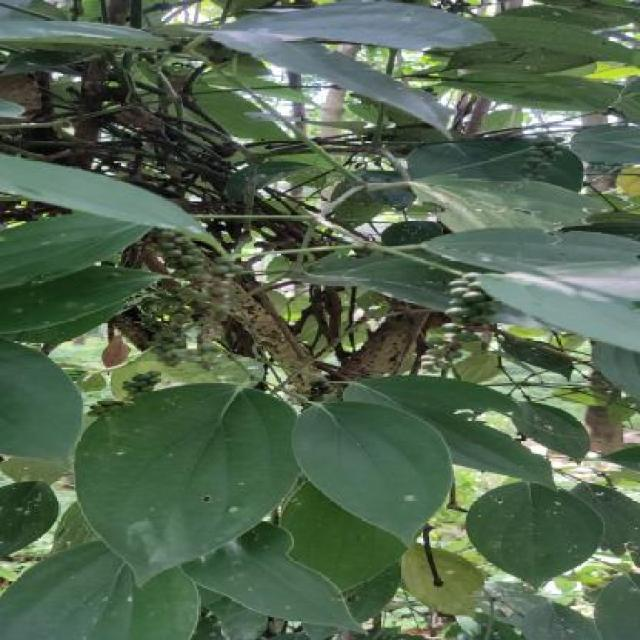UNRIPE: (154, 229, 240, 366), (423, 273, 491, 370), (89, 370, 160, 416), (520, 134, 566, 174)
